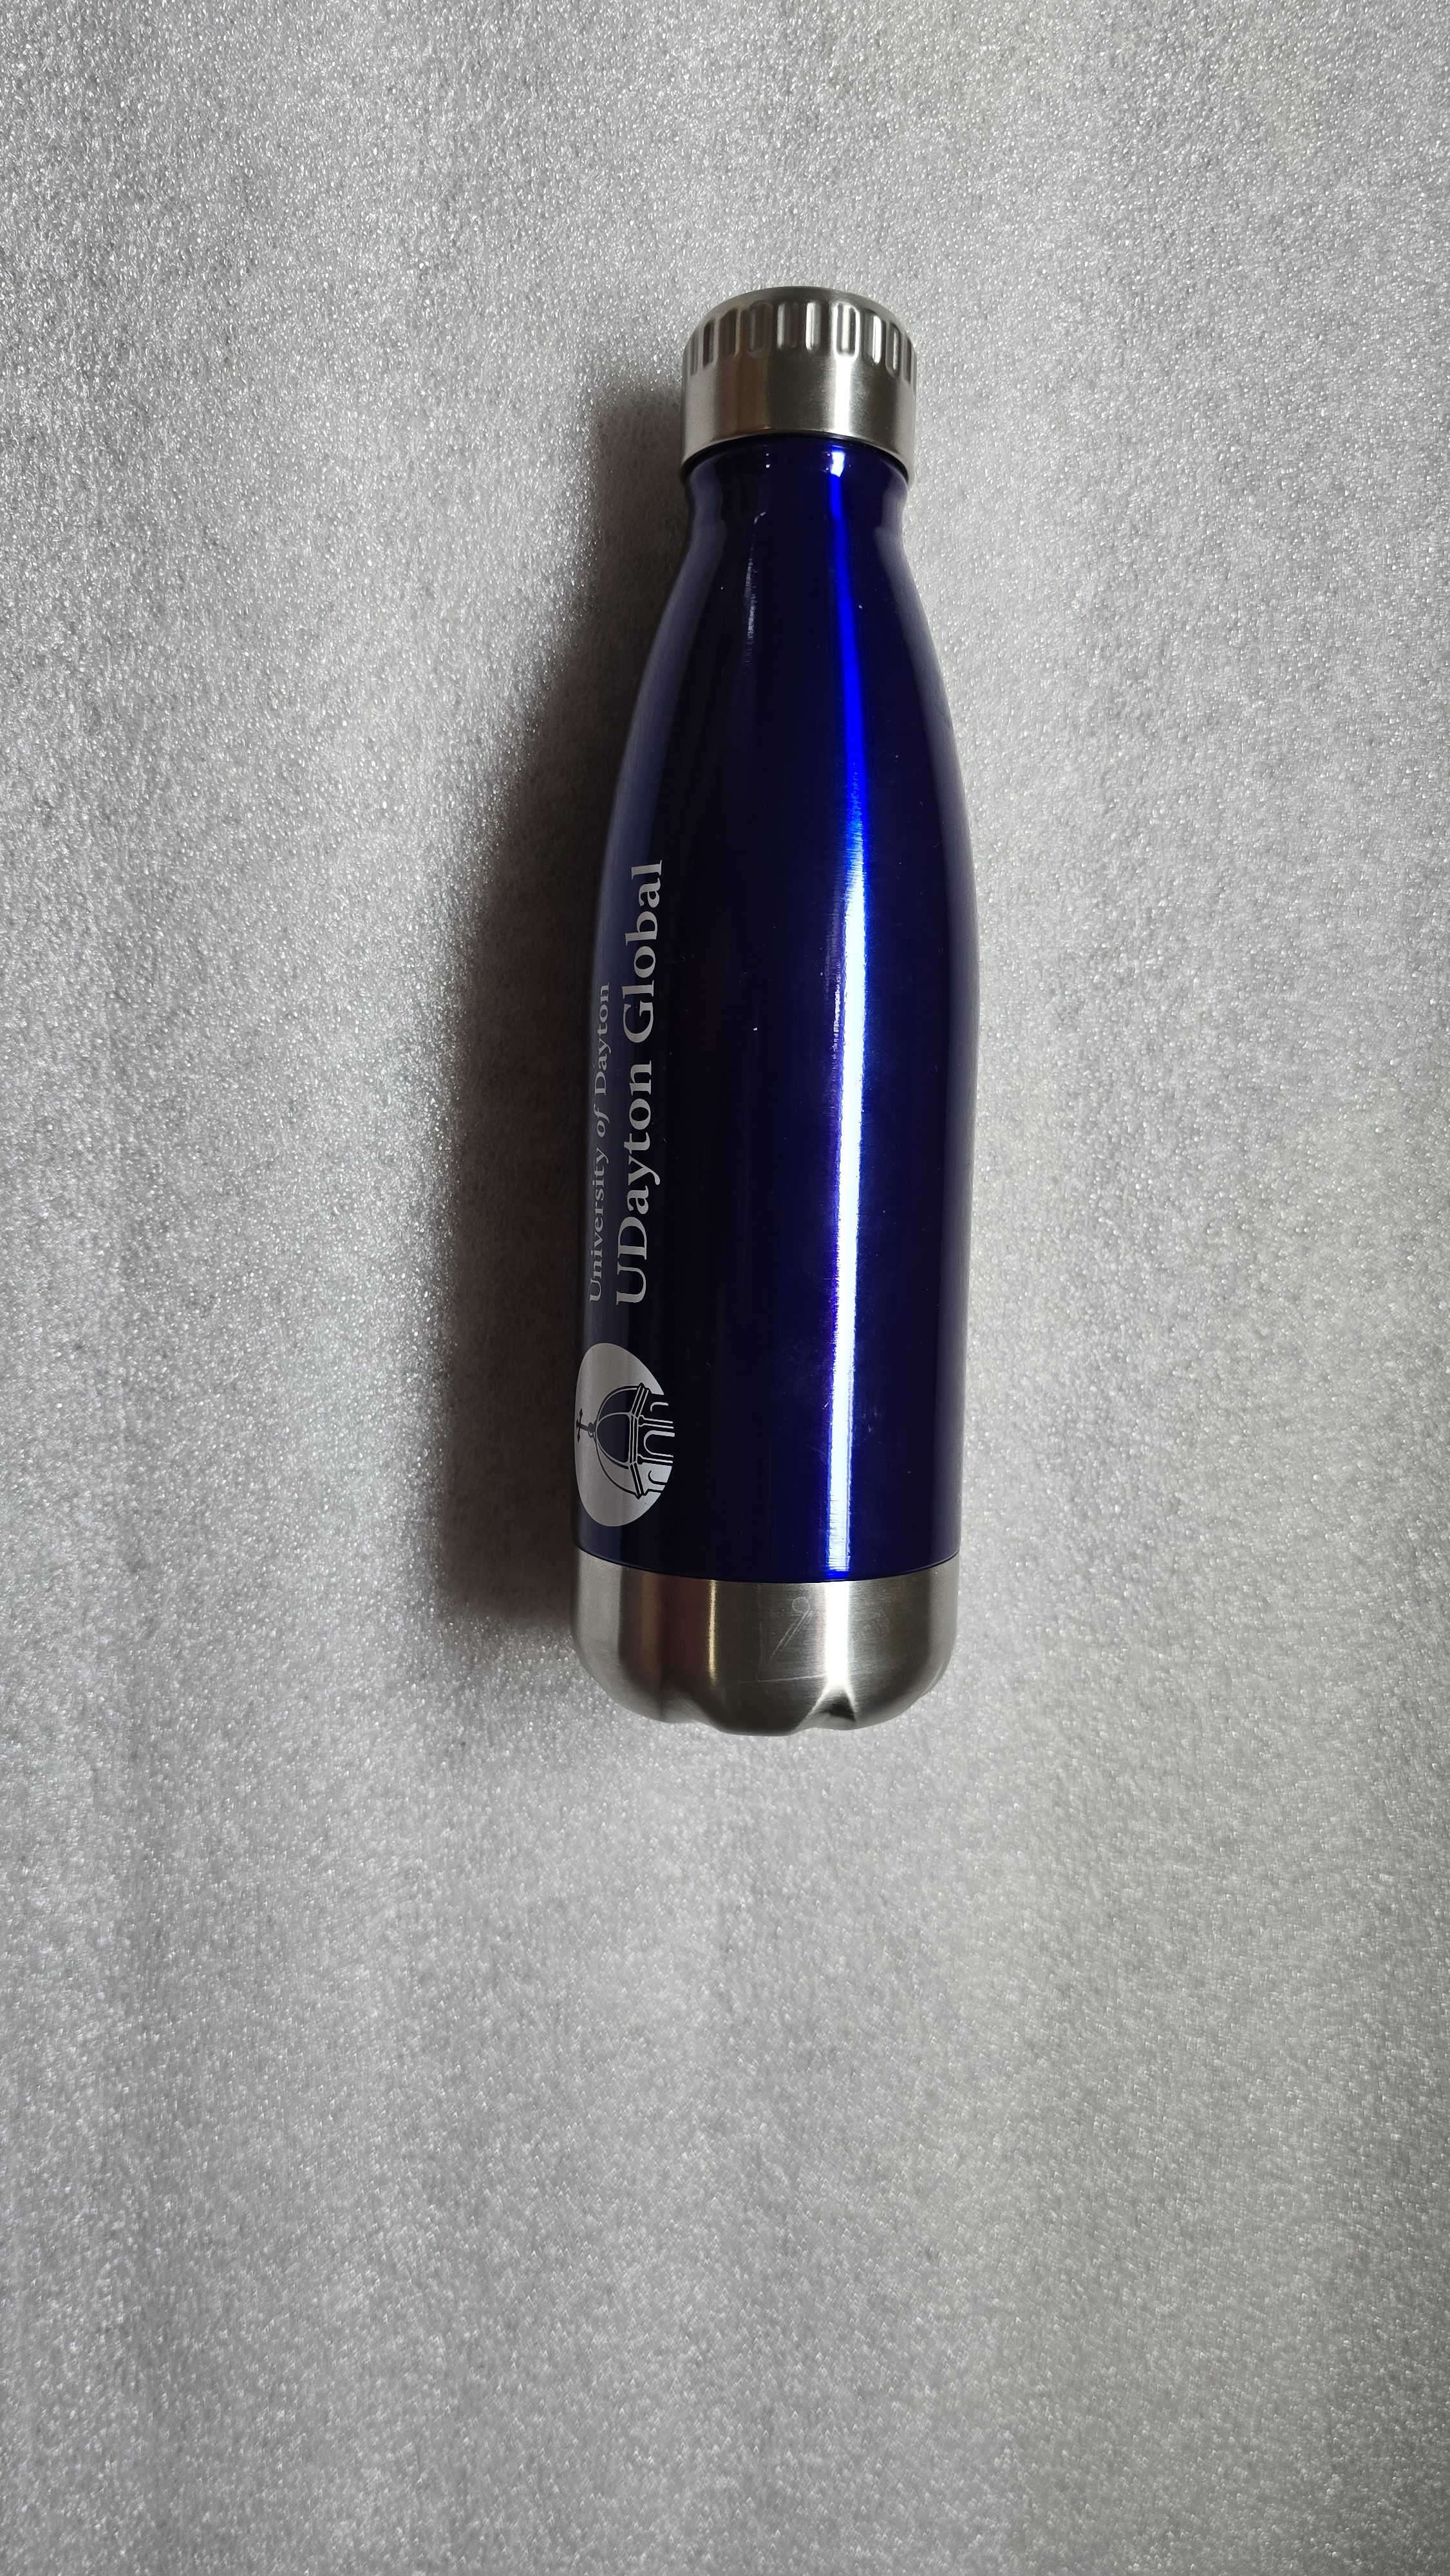bottle: (555, 244, 1029, 1773)
